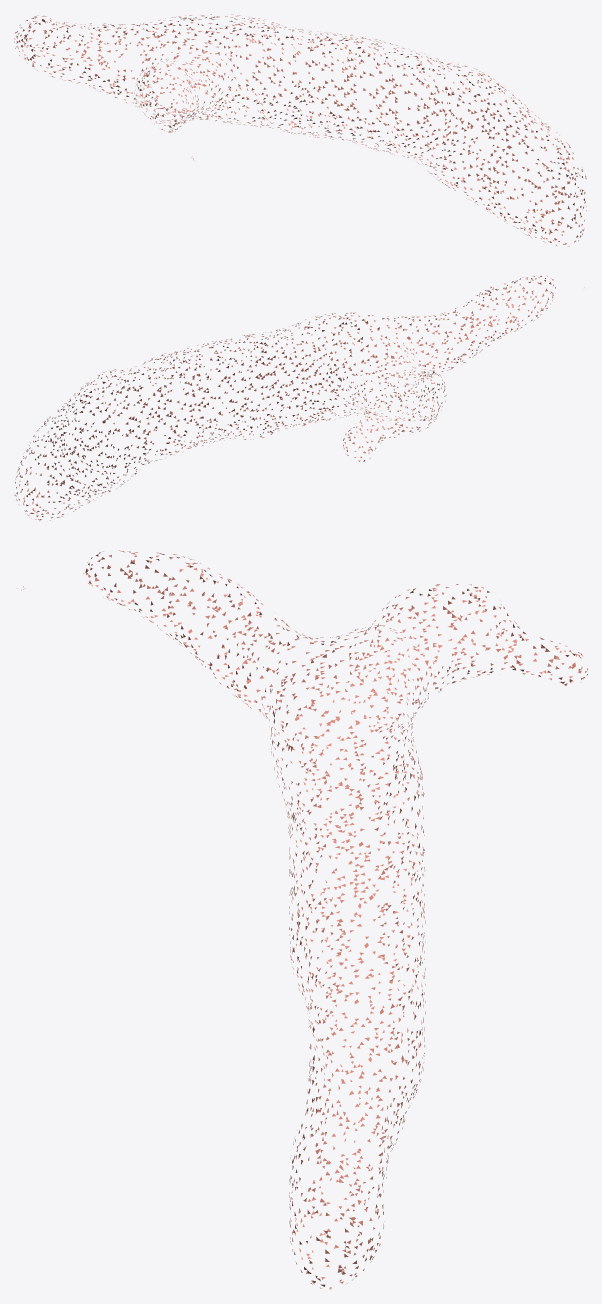
Rendered from morph_002.glb.
3 renders of one model, top to bottom at view 1: azimuth 30°, elevation 25°; view 2: azimuth 150°, elevation 25°; view 3: azimuth 270°, elevation 25°, orthographic. The views are drawn at different scales.
Bounding box in the file's own units: 119 × 73.75 × 88.06.
